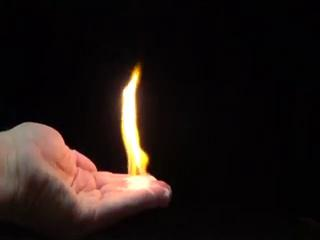Fire: (116, 62, 152, 201)
